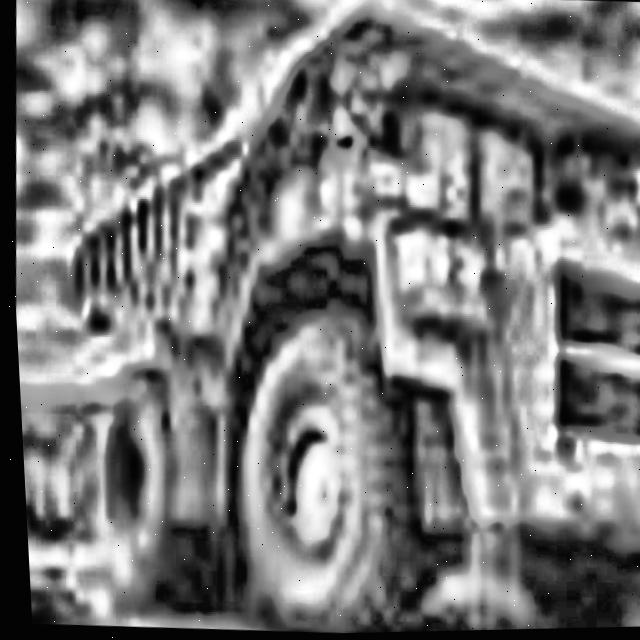dump_truck: (40, 0, 640, 639)
